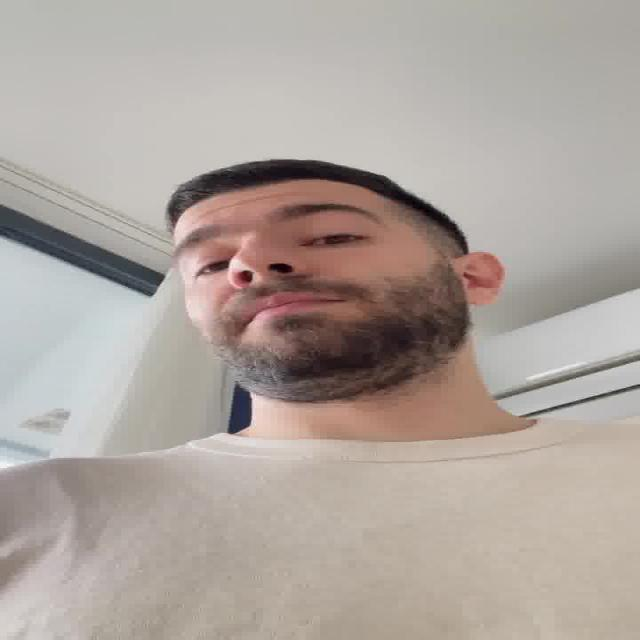earlobe: (463, 294, 497, 308)
eye: (302, 233, 372, 249), (185, 256, 231, 278)
nose: (226, 274, 315, 295)
wholeear: (452, 251, 503, 309)
